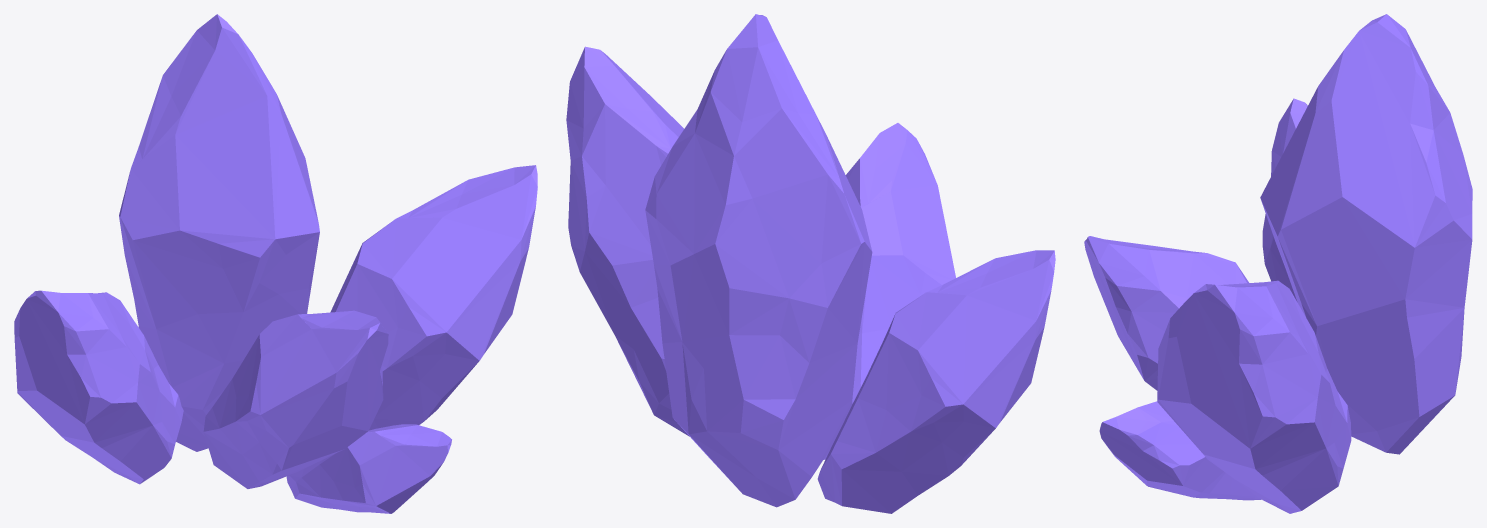
The model's file is Crystals_2.fbx.
3 renders of one model, left to right at view 1: azimuth 30°, elevation 25°; view 2: azimuth 150°, elevation 25°; view 3: azimuth 270°, elevation 25°, orthographic. The views are drawn at different scales.
Visible parts, largest first — view 1: Crystals; view 2: Crystals; view 3: Crystals.
Part boxes in pixels (x1=…): Crystals: x1=14, y1=14, x2=537, y2=513; Crystals: x1=566, y1=14, x2=1055, y2=513; Crystals: x1=1084, y1=14, x2=1472, y2=513.
Bounding box in the file's own units: 244 × 226 × 170.
